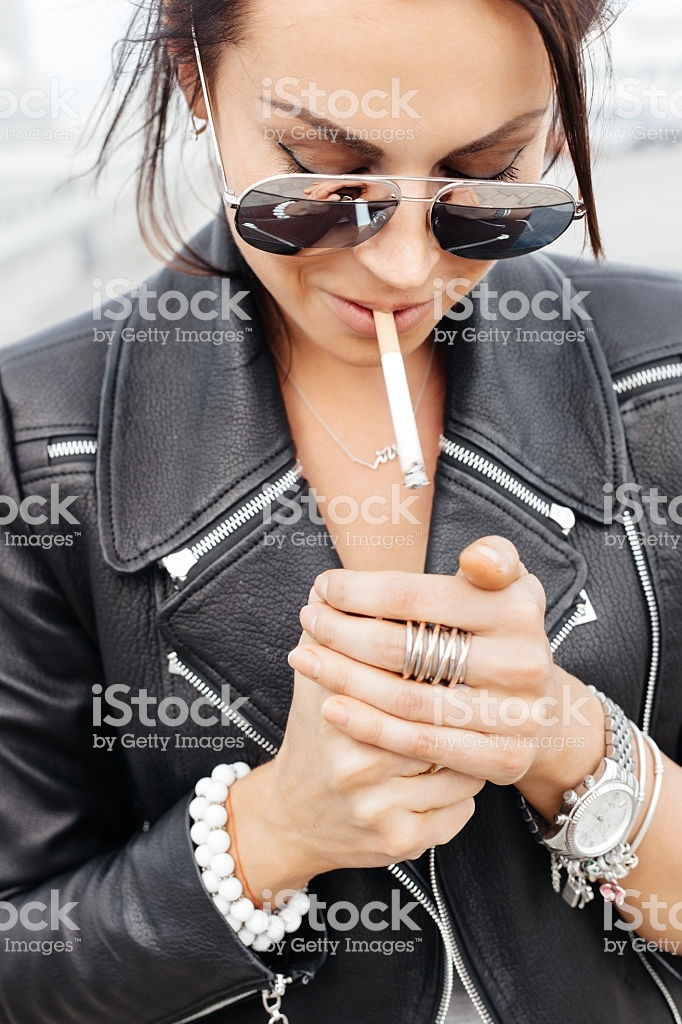sigaretta: (371, 295, 436, 502)
